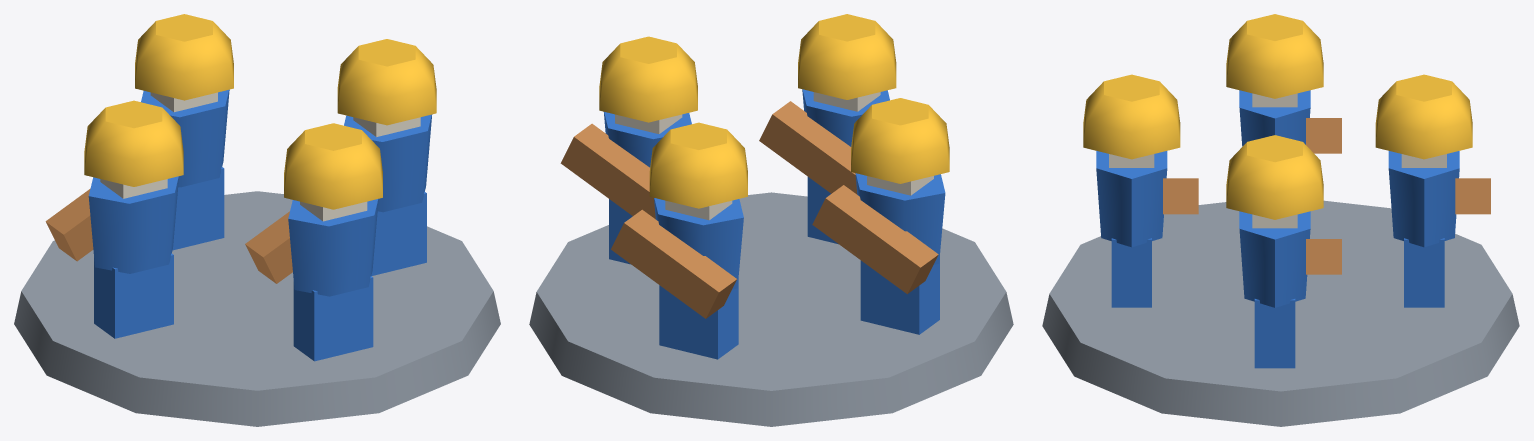
File: unit-infantry.glb
The picture shows the model from 3 angles, left to right: view 1: azimuth 30°, elevation 25°; view 2: azimuth 150°, elevation 25°; view 3: azimuth 270°, elevation 25°; orthographic projection. The views are drawn at different scales.
Visible parts, largest first — view 1: soldier (×4), base; view 2: soldier (×4), base; view 3: base, soldier (×4).
Part boxes in pixels (left/top/right/bottom): soldier (×4): left=45, top=14, right=436, bottom=361; base: left=14, top=191, right=500, bottom=426; soldier (×4): left=560, top=14, right=949, bottom=359; base: left=529, top=192, right=1013, bottom=426; base: left=1042, top=200, right=1519, bottom=426; soldier (×4): left=1083, top=14, right=1490, bottom=368.
Size of the model in its own units: 4 by 2.2 by 4.
